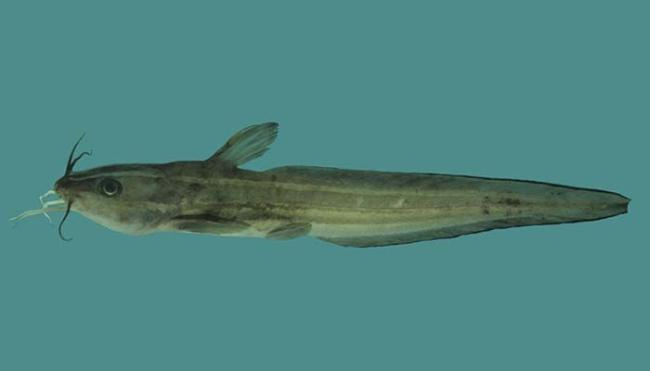fish: (53, 121, 632, 248)
